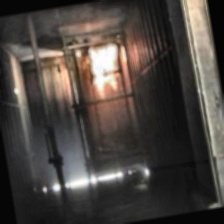fire: (81, 35, 134, 100)
